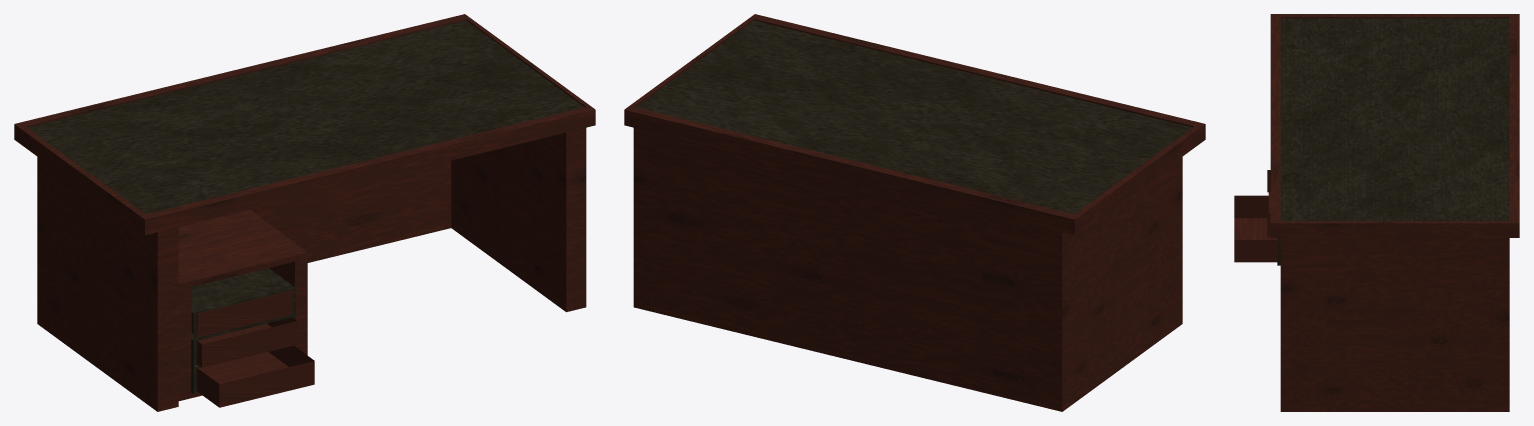
Rendered from OfficeDesk.fbx.
3 views of the same model, side by side, from view 1: azimuth 30°, elevation 25°; view 2: azimuth 150°, elevation 25°; view 3: azimuth 270°, elevation 25° (orthographic). The views are drawn at different scales.
Visible parts, largest first — view 1: OfficeDrawer, OD3, OD2, OD1; view 2: OfficeDrawer; view 3: OfficeDrawer, OD3.
Part boxes in pixels (x1=…): OfficeDrawer: x1=14, y1=14, x2=595, y2=411; OD3: x1=197, y1=345, x2=314, y2=407; OD2: x1=197, y1=317, x2=297, y2=367; OD1: x1=191, y1=290, x2=292, y2=337; OfficeDrawer: x1=624, y1=14, x2=1205, y2=411; OfficeDrawer: x1=1270, y1=14, x2=1519, y2=411; OD3: x1=1234, y1=195, x2=1280, y2=262.
Bounding box in the file's own units: 1.92 × 0.8148 × 1.1.
